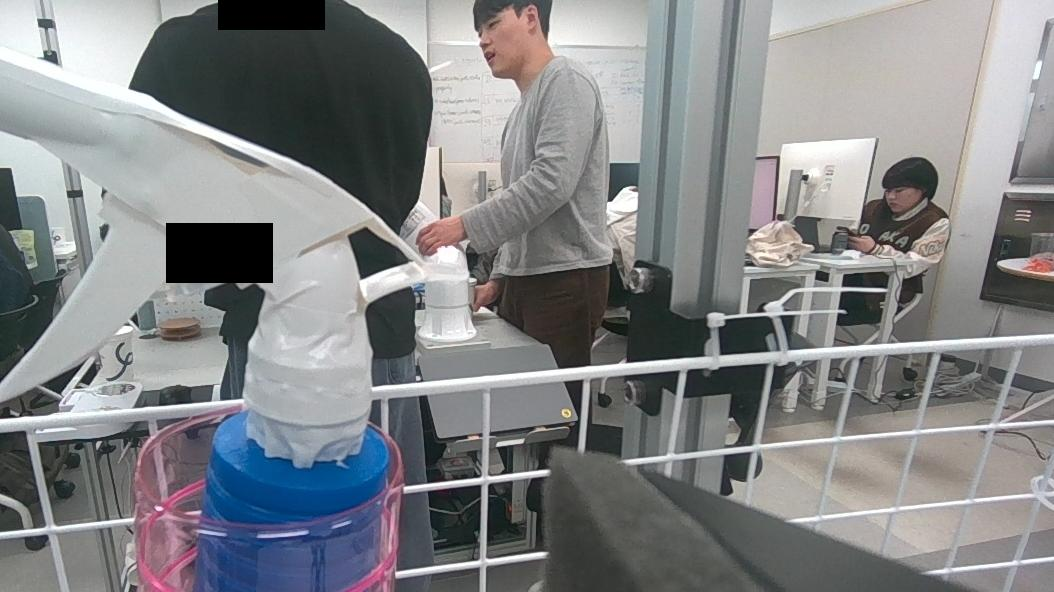Nozzle: (0, 12, 432, 592)
